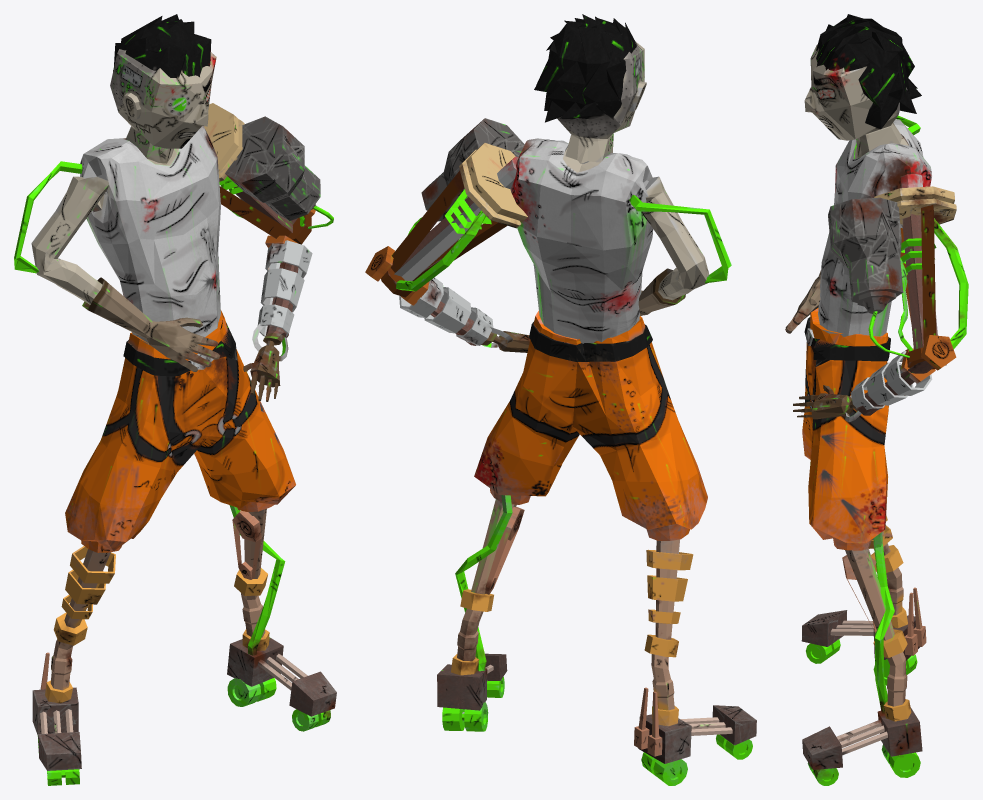
File: CyborgFINALAnimation_000061.obj
3 views of the same model, side by side, from view 1: azimuth 30°, elevation 25°; view 2: azimuth 150°, elevation 25°; view 3: azimuth 270°, elevation 25° (orthographic). The views are drawn at different scales.
Visible parts, largest first — view 1: CyborgMesh_Cube.002; view 2: CyborgMesh_Cube.002; view 3: CyborgMesh_Cube.002.
Part boxes in pixels (x1=…): CyborgMesh_Cube.002: x1=14, y1=14, x2=336, y2=785; CyborgMesh_Cube.002: x1=365, y1=14, x2=756, y2=785; CyborgMesh_Cube.002: x1=785, y1=14, x2=968, y2=785.
Size of the model in its own units: 4.58 by 9.6 by 2.27.
